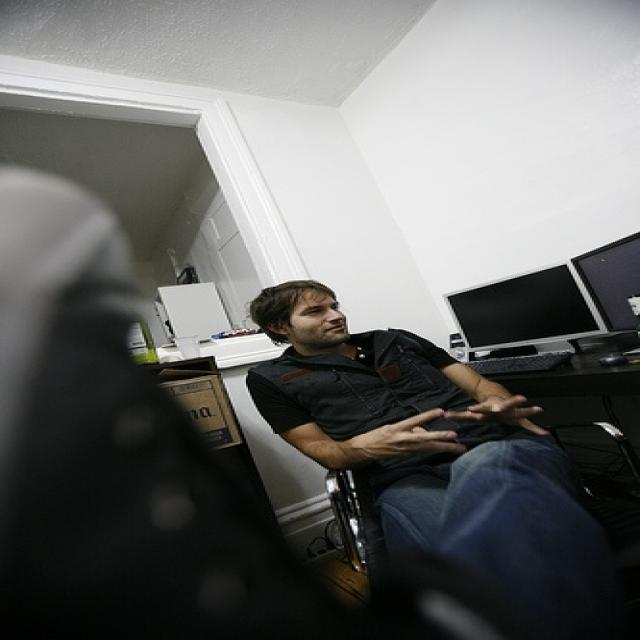tvmonitor: (442, 262, 607, 354), (571, 232, 638, 332)
